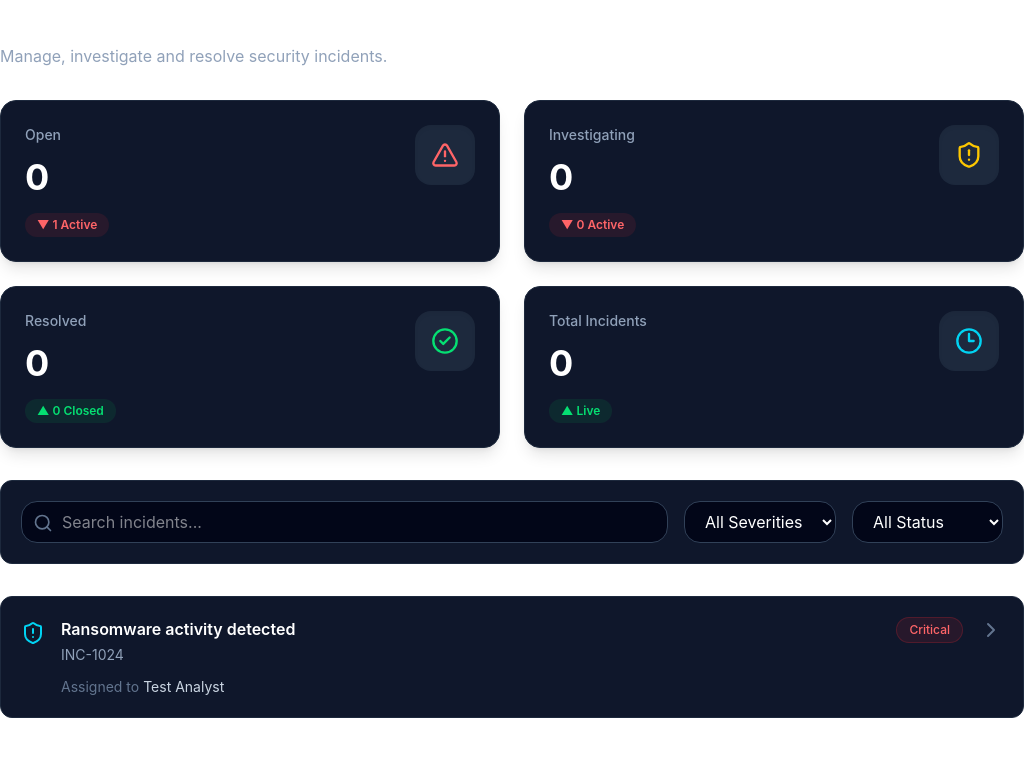
Test: Incident rendering › explains why the ML panel is empty instead of implying nothing was found
Click the heading "Ransomware activity detected".
click(178, 629)  # box [61, 617, 295, 641]
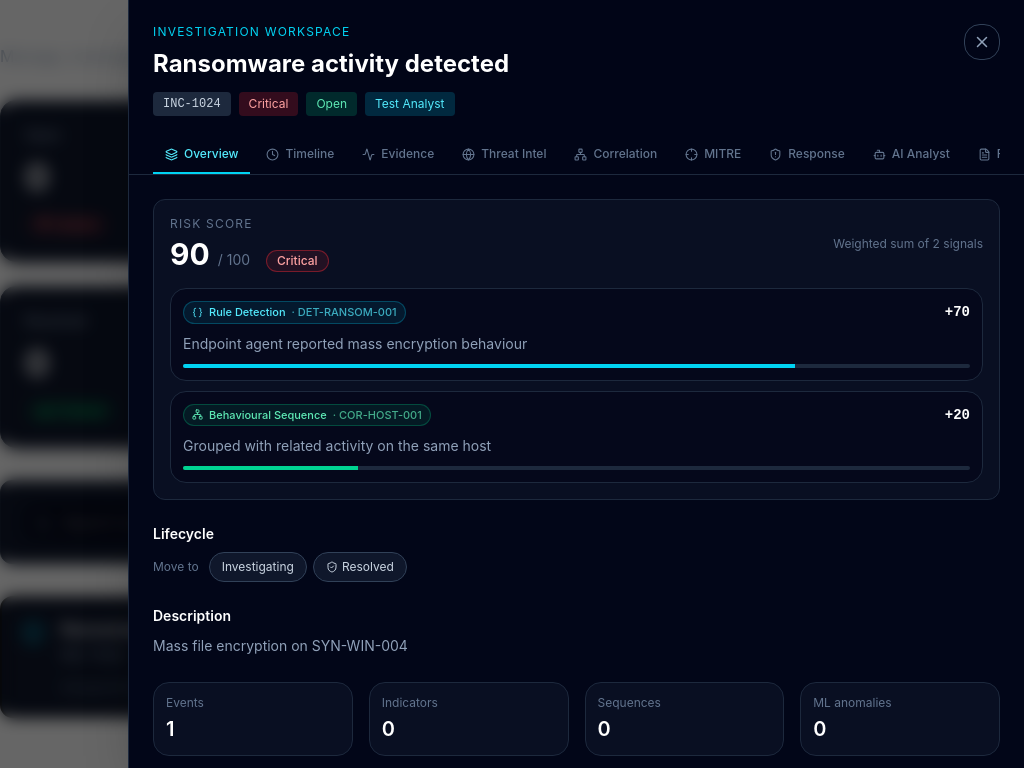
Click the tab "Evidence".
click(398, 155)  # box [350, 136, 446, 174]
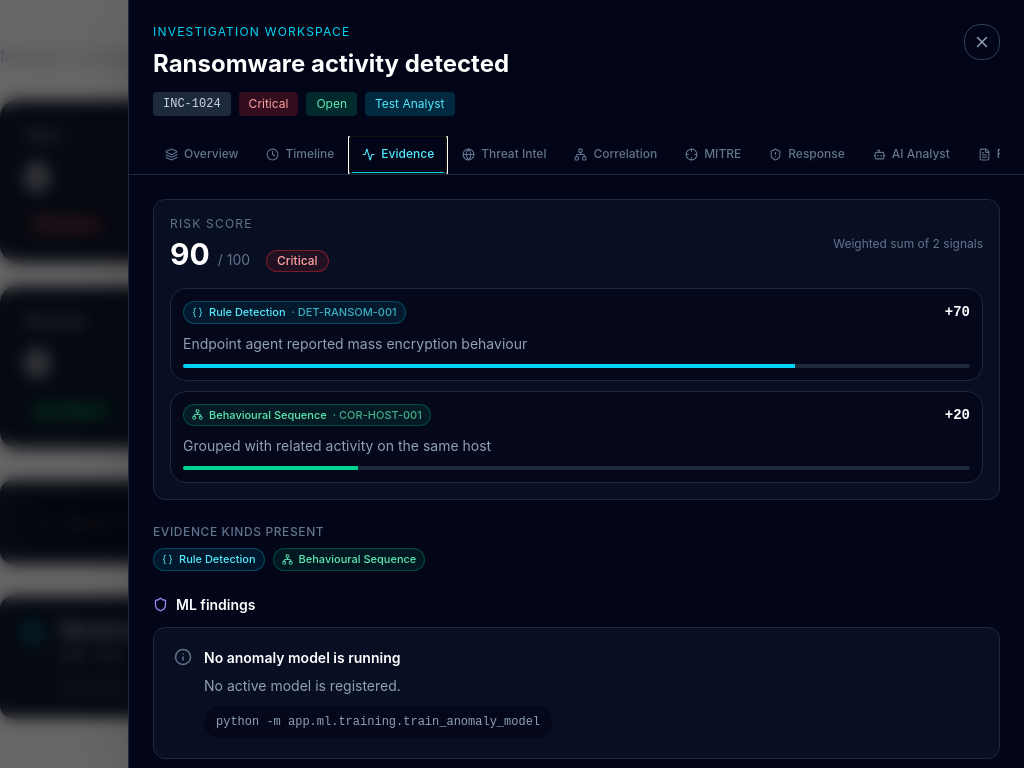
Expected: the text "No anomaly model is running" is shown, [204, 648, 400, 666]
Expected: the text "No active model is registered." is shown, [204, 676, 401, 694]
